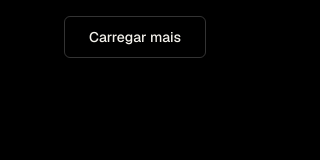
em erro mostra mensagem e Tentar de novo
What coordinates should you click on to do the following:
click the button "Carregar mais"
I would click on:
 (135, 37)
Its box is top-left (64, 16), bottom-right (206, 58).
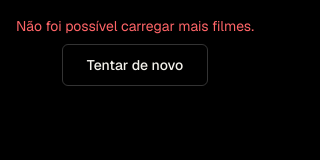
Result: the text "Não foi possível carregar mais filmes." is shown at top-left (16, 16), bottom-right (254, 36)
Result: the button "Tentar de novo" is shown at top-left (62, 44), bottom-right (208, 86)
